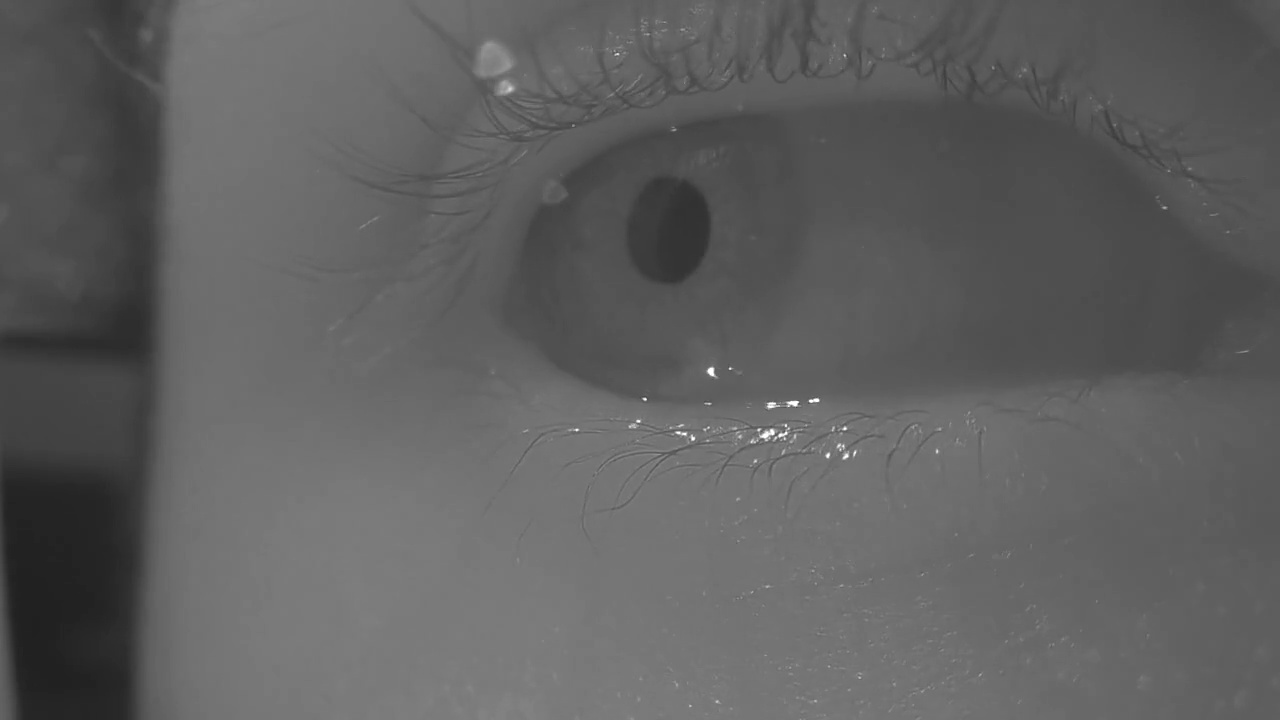pupil: (628, 178, 709, 283)
